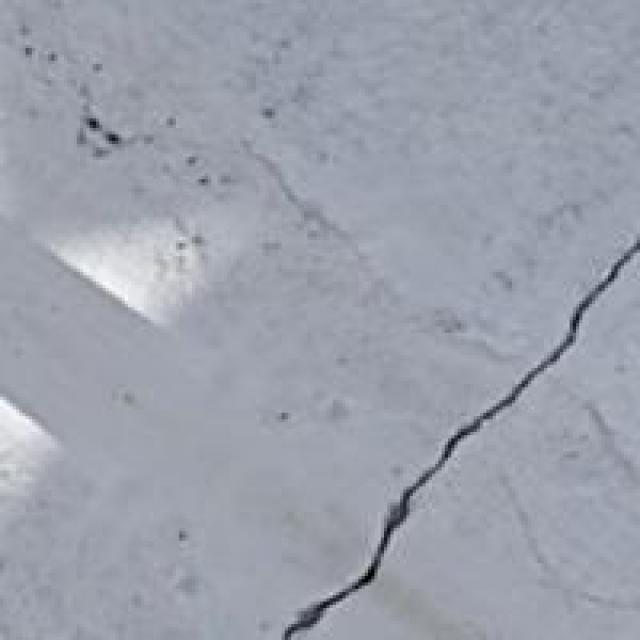Crack: (246, 211, 636, 637)
